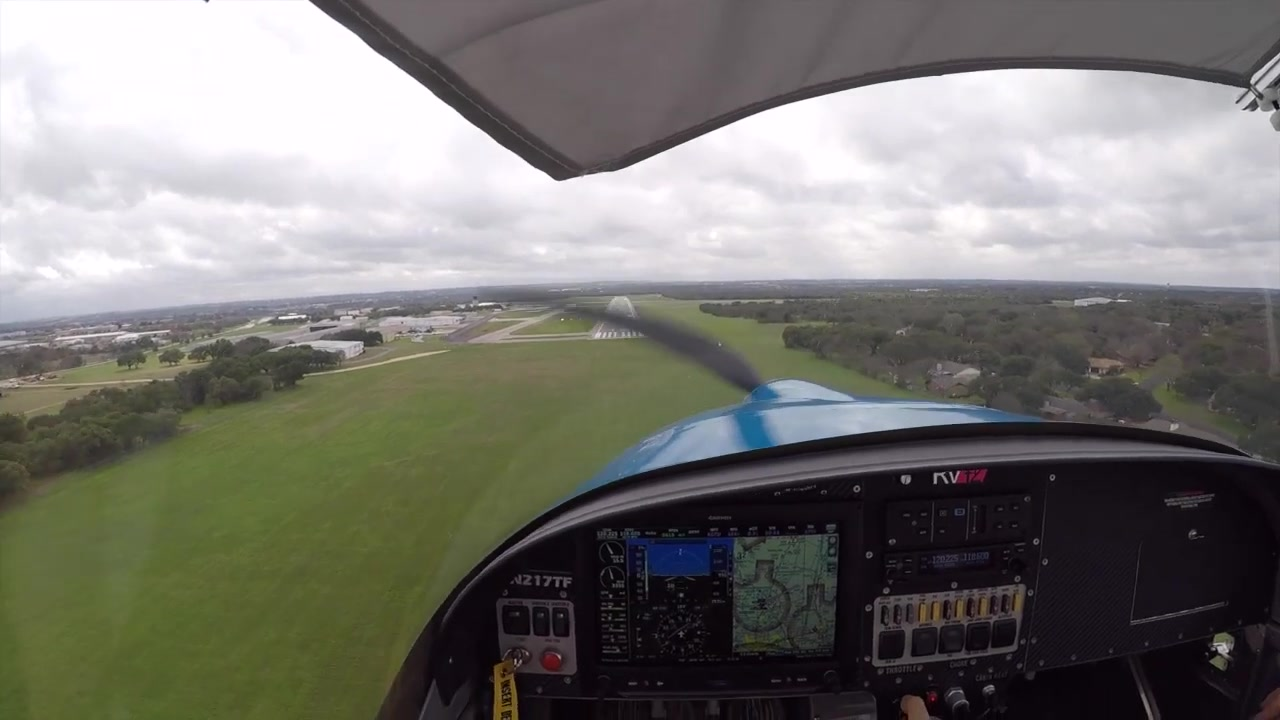entrance: (594, 329, 645, 340)
runway: (586, 292, 649, 342)
